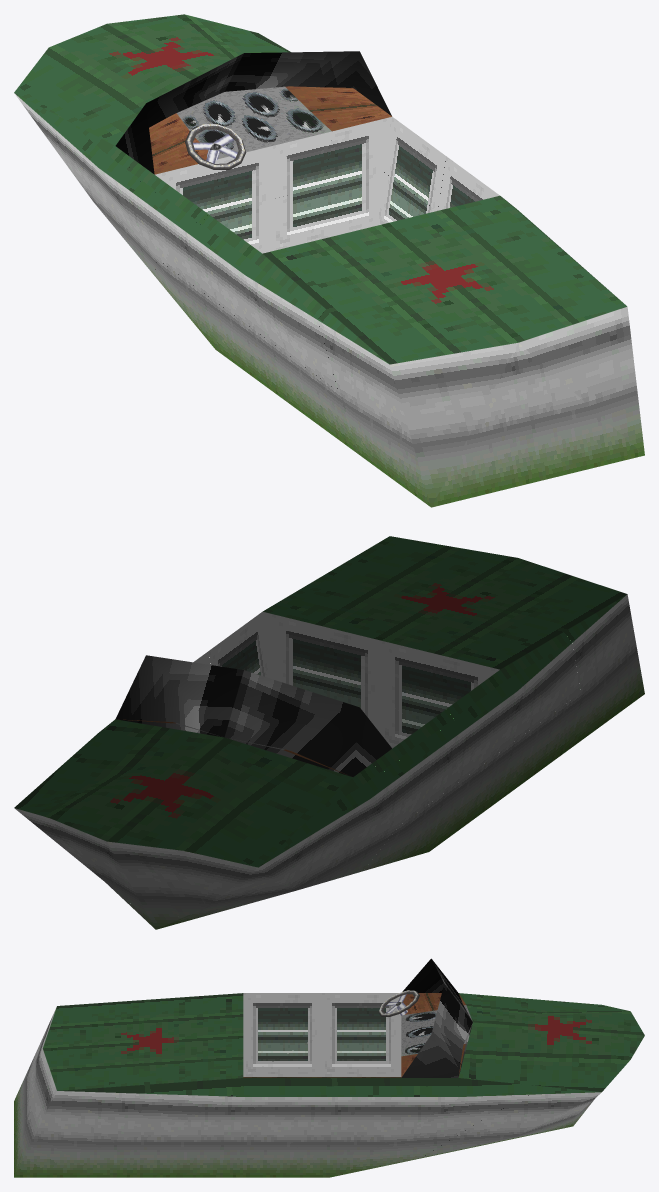
Rendered from PspeedboatZ.obj.
3 renders of one model, top to bottom at view 1: azimuth 30°, elevation 25°; view 2: azimuth 150°, elevation 25°; view 3: azimuth 270°, elevation 25°, orthographic. The views are drawn at different scales.
Bounding box in the file's own units: 1220 × 950 × 3355.
Materials: 16 (16 with a texture image).
